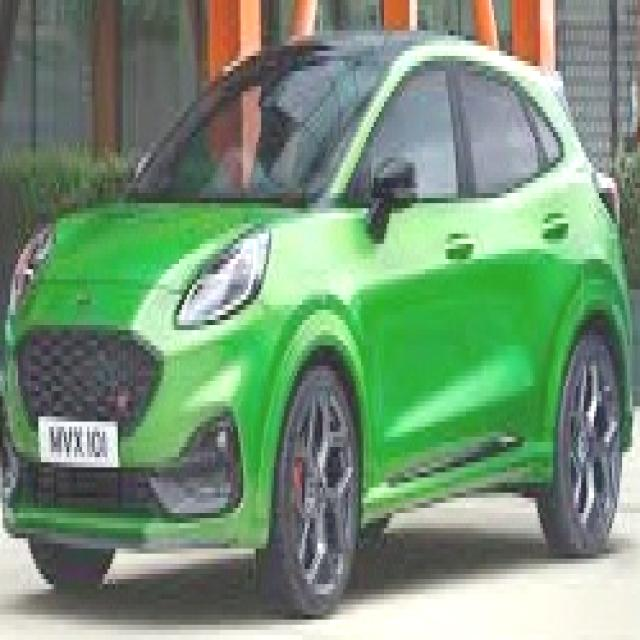green: (1, 35, 632, 612)
